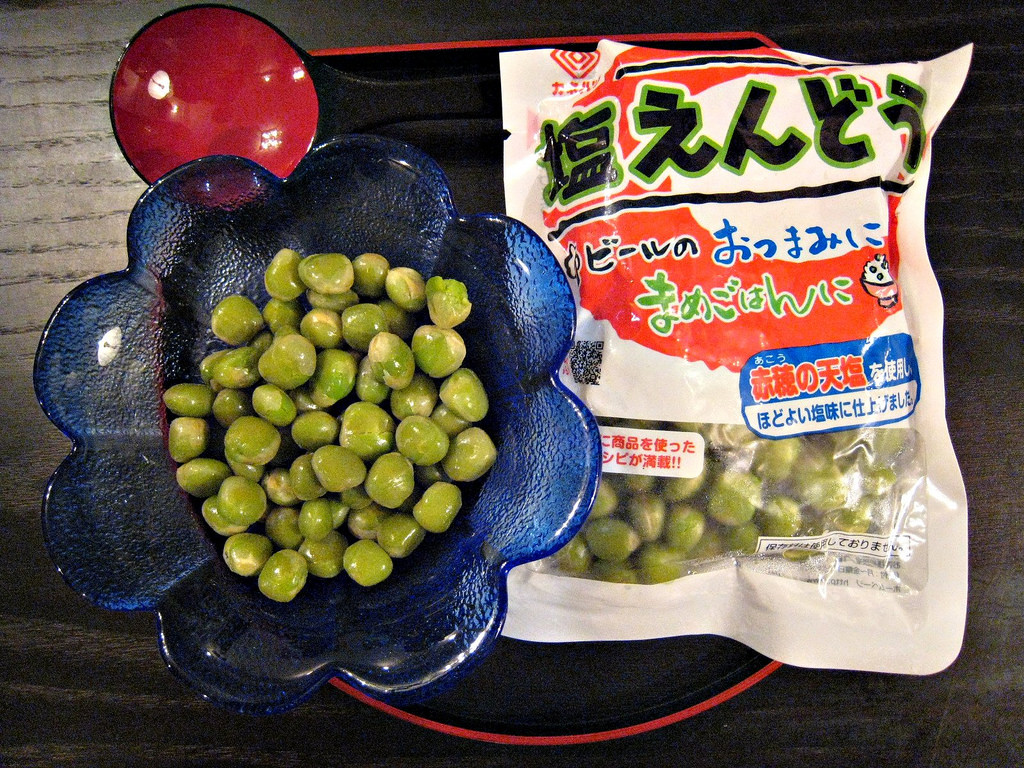boiled peas: (194, 266, 480, 580), (593, 421, 913, 574)
